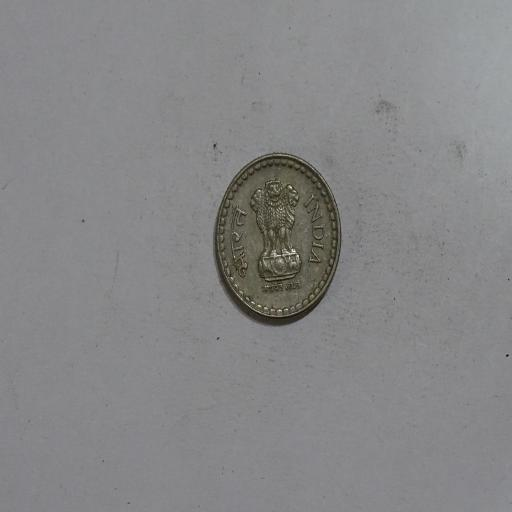rupee5: (209, 152, 341, 326)
